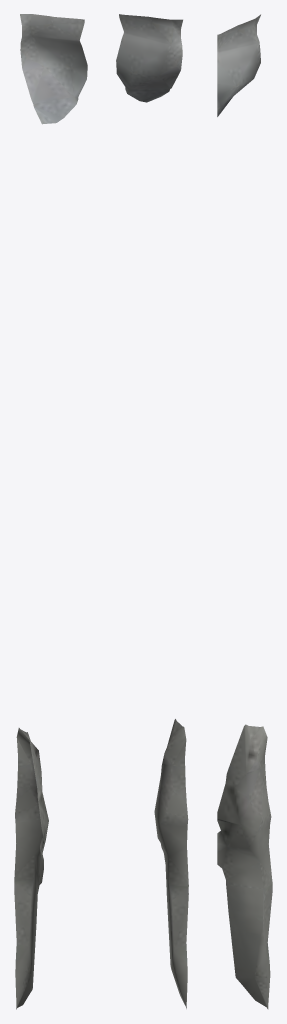
3 renders of one model, left to right at view 1: azimuth 30°, elevation 25°; view 2: azimuth 210°, elevation 25°; view 3: azimuth 270°, elevation 25°, orthographic.
Bounding box in the file's own units: 0.1699 × 3.54 × 0.1783.
Materials: 1 (1 with a texture image).
